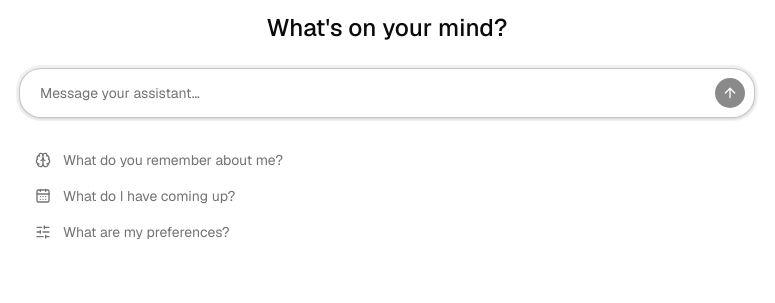
Scenario: a first message the server will not take stays here, with the reason, and goes nowhere
Type "Hello" into the text box labelled "Message" at (373, 93), box [40,77,706,109]
Then press Enter
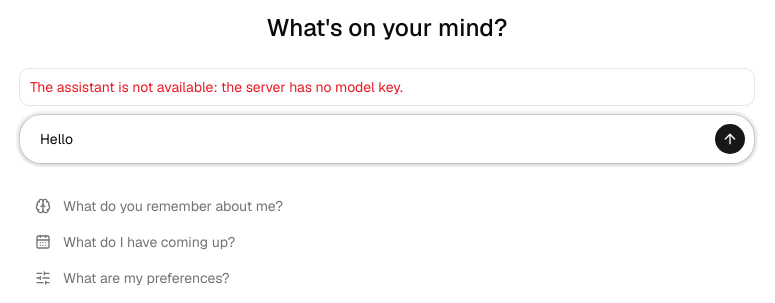
expect the message shows "The assistant is not available": met, box [30,78,403,96]
